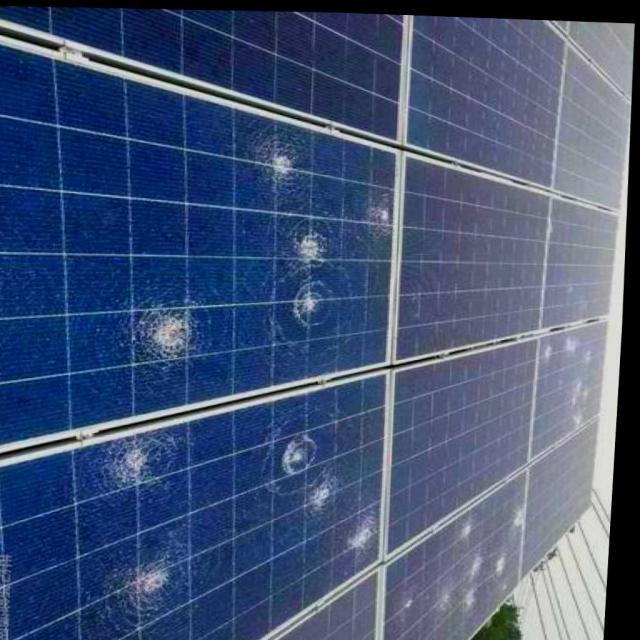cracked: (2, 48, 390, 429), (6, 411, 383, 640), (393, 475, 523, 640), (536, 324, 614, 444)
